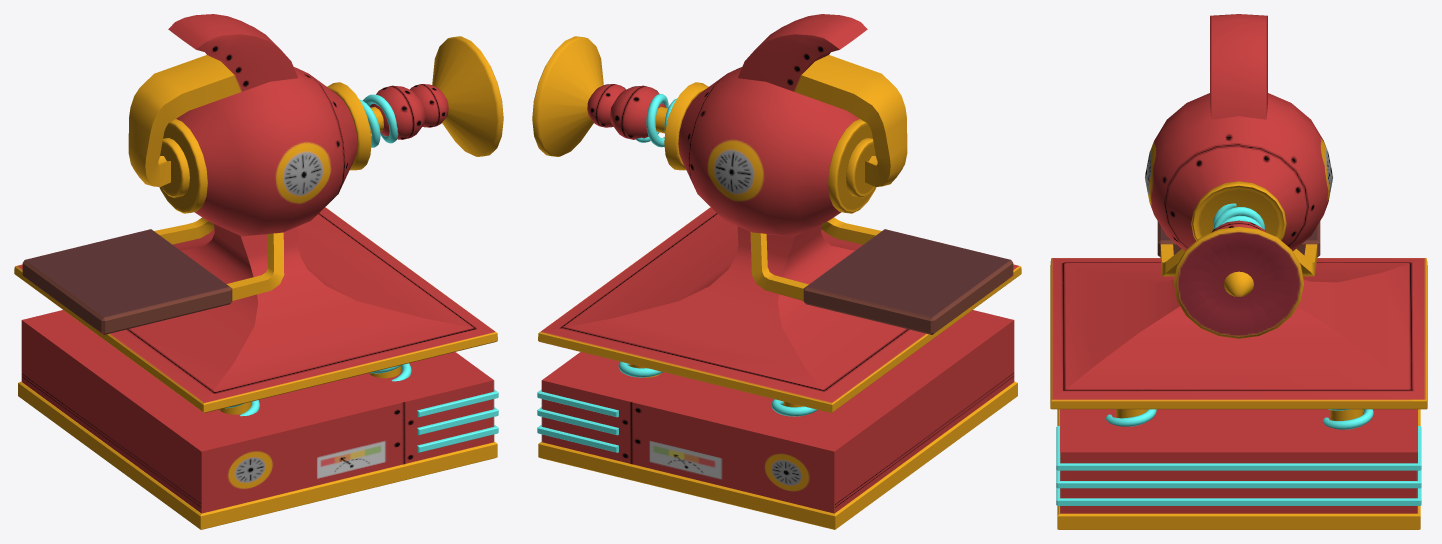
The model's file is ShrinkrayUG1.fbx.
The picture shows the model from 3 angles, left to right: view 1: azimuth 30°, elevation 25°; view 2: azimuth 150°, elevation 25°; view 3: azimuth 270°, elevation 25°; orthographic projection.
Visible parts, largest first — view 1: Bottom_Shrinkray, Top_Shrinkray; view 2: Bottom_Shrinkray, Top_Shrinkray; view 3: Bottom_Shrinkray, Top_Shrinkray.
Part boxes in pixels (box(x1,y1,x2,y2)): Bottom_Shrinkray: box(14, 207, 498, 529); Top_Shrinkray: box(22, 14, 503, 334); Bottom_Shrinkray: box(537, 207, 1021, 529); Top_Shrinkray: box(532, 14, 1013, 334); Bottom_Shrinkray: box(1050, 258, 1427, 529); Top_Shrinkray: box(1145, 14, 1332, 338).
Size of the model in its own units: 96.05 by 87.75 by 72.24.
1 material, 1 textured.
